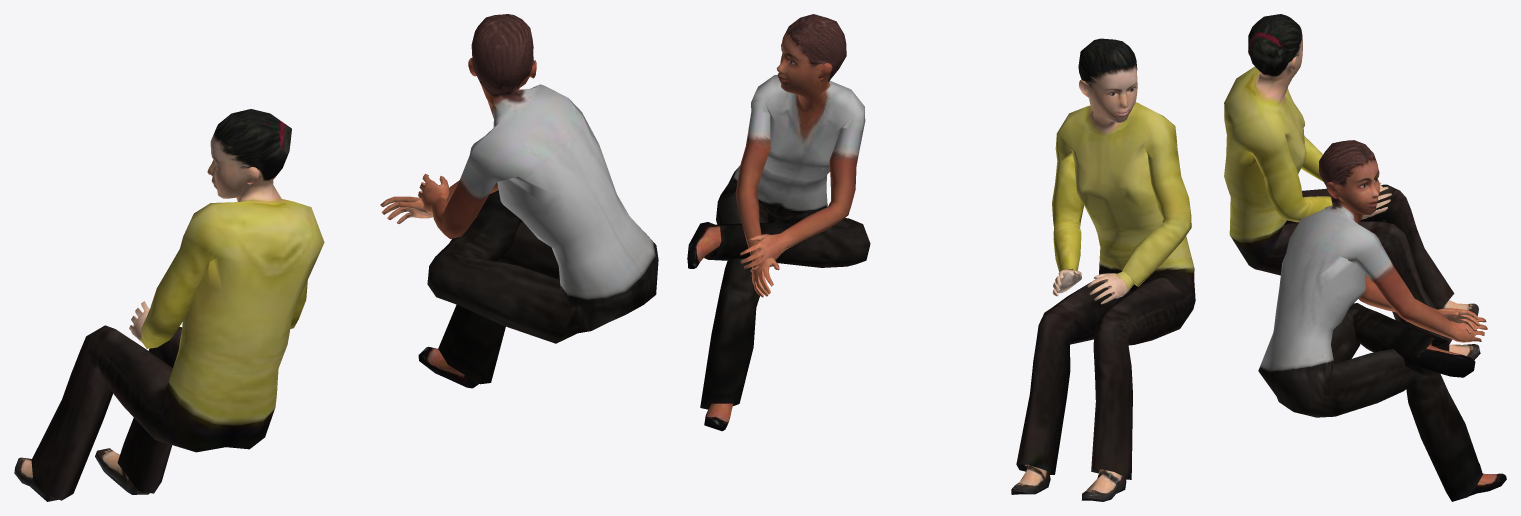
Rendered from Publico2.fbx.
The picture shows the model from 3 angles, left to right: view 1: azimuth 30°, elevation 25°; view 2: azimuth 150°, elevation 25°; view 3: azimuth 270°, elevation 25°; orthographic projection. The views are drawn at different scales.
Visible parts, largest first — view 1: Female001, Female000; view 2: Female001, Female000; view 3: Female000, Female001.
Part boxes in pixels (x1,y1,x2,y2): Female001: (14, 109, 324, 501); Female000: (380, 14, 658, 388); Female001: (1011, 38, 1195, 501); Female000: (687, 14, 870, 431); Female000: (1258, 140, 1506, 501); Female001: (1224, 14, 1480, 360).
Bounding box in the file's own units: 64.56 × 50.68 × 36.27.
3 materials, 2 textured.
